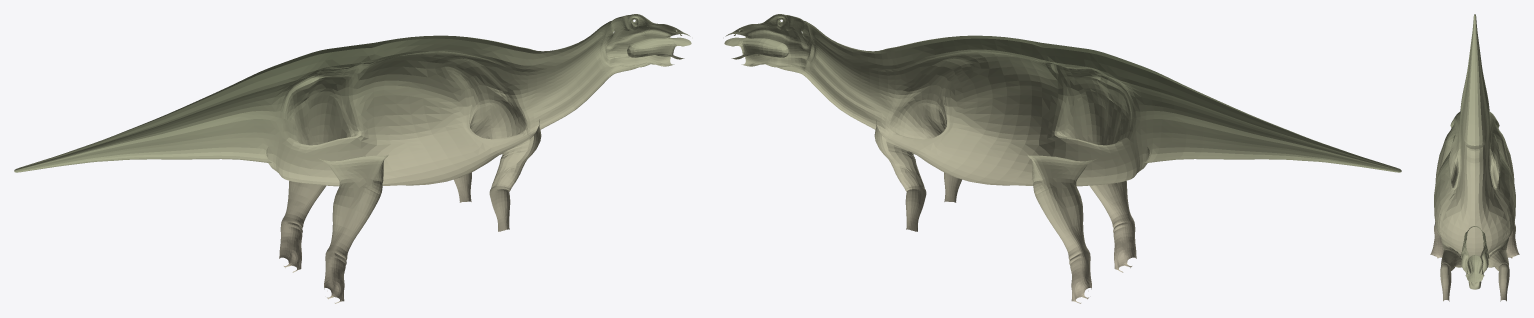
Rendered from shuangmiaosaurus.glb.
3 views of the same model, side by side, from view 1: azimuth 30°, elevation 25°; view 2: azimuth 150°, elevation 25°; view 3: azimuth 270°, elevation 25° (orthographic). The views are drawn at different scales.
Visible parts, largest first — view 1: world; view 2: world; view 3: world.
Boxes of the visible parts, x1=… form: world: x1=14, y1=14, x2=691, y2=303; world: x1=724, y1=14, x2=1401, y2=303; world: x1=1430, y1=14, x2=1519, y2=301.
Bounding box in the file's own units: 10 × 3.28 × 1.56.
